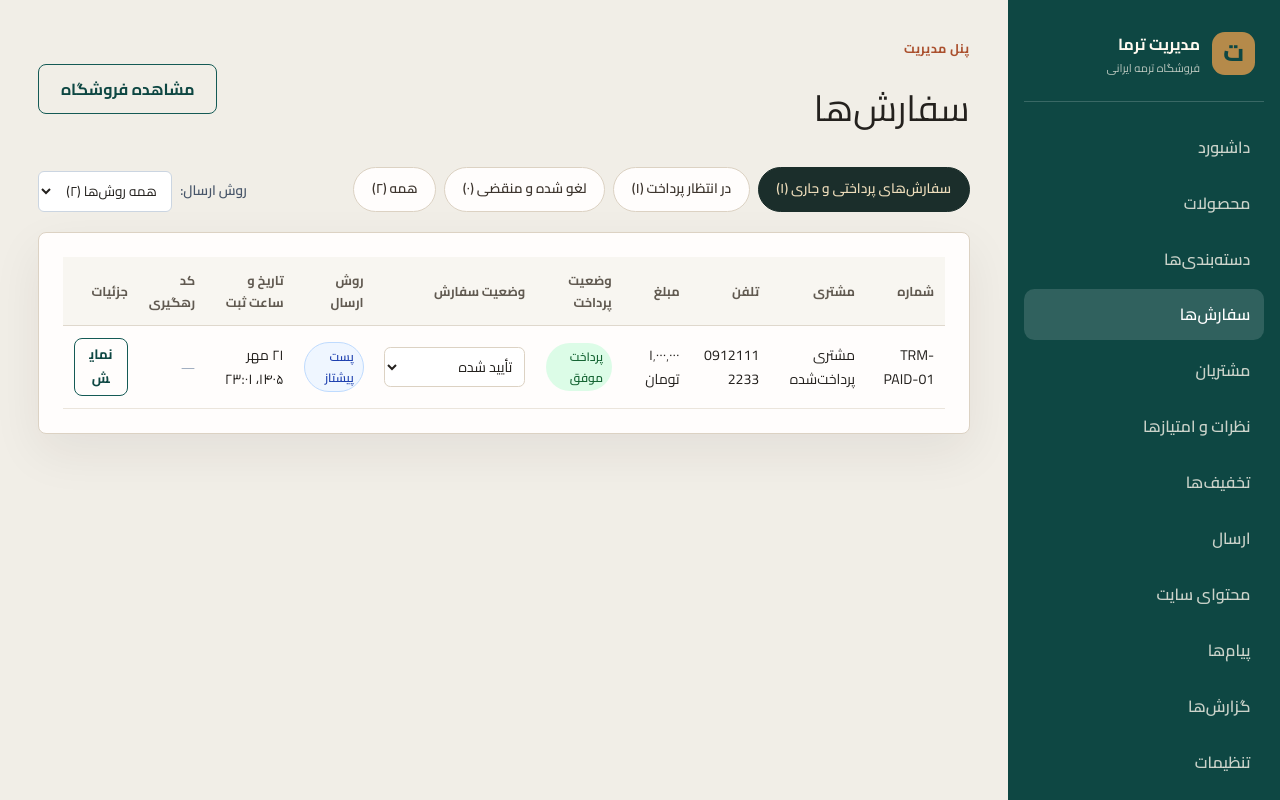
Test: AdminOperationsPages › AdminOrdersPage filters between paid and pending payment tabs
Expected: the text "TRM-PAID-01" is shown, [866,326,945,408]
Expected: the text "TRM-PENDING-02" is not shown
# Switch to Pending Payment tab
Click the button "در انتظار پرداخت (۱)": (682, 189) [613,167,750,212]
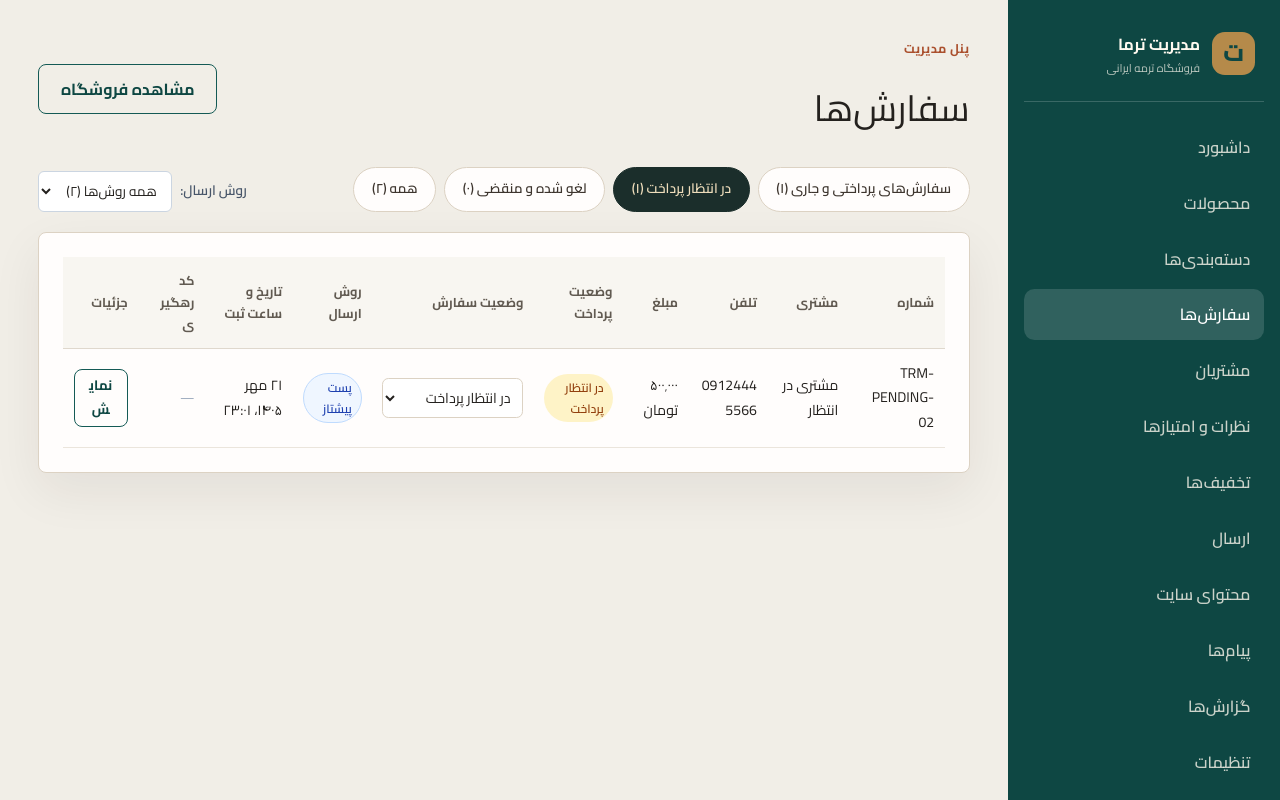
Expected: the text "TRM-PENDING-02" is shown, [849,348,945,447]
Expected: the text "TRM-PAID-01" is gone
